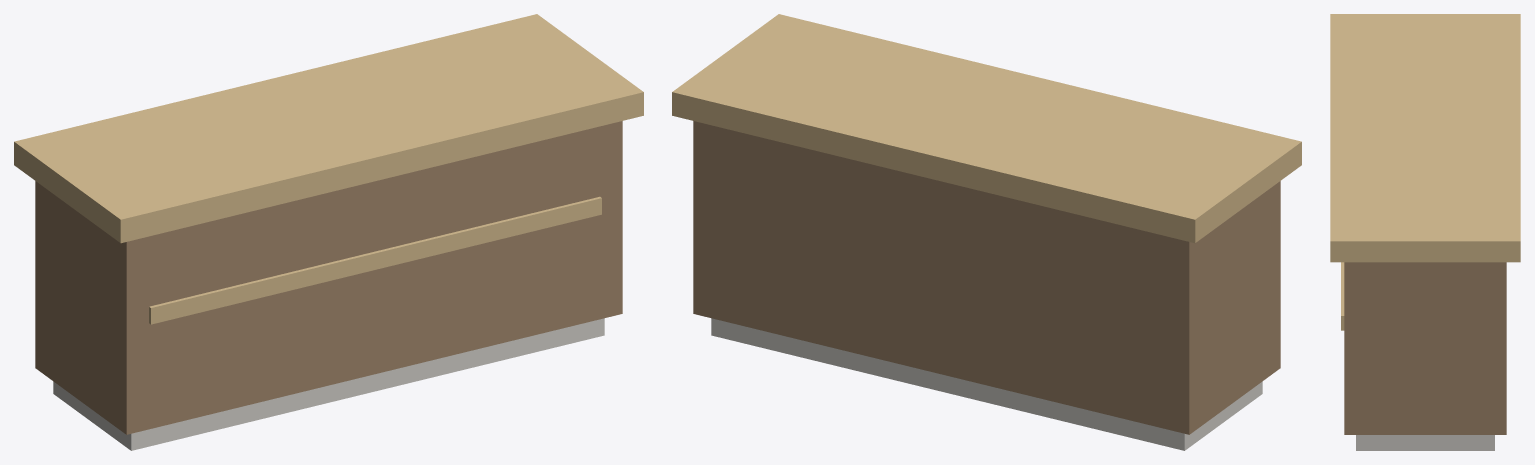
3 views of the same model, side by side, from view 1: azimuth 30°, elevation 25°; view 2: azimuth 150°, elevation 25°; view 3: azimuth 270°, elevation 25° (orthographic). The views are drawn at different scales.
Visible parts, largest first — view 1: 柜体, 台面, 踢脚, 前脸线条; view 2: 柜体, 台面, 踢脚; view 3: 台面, 柜体, 踢脚, 前脸线条.
Boxes of the visible parts, box(x1,y1,x2,y2) form: 柜体: box(35, 121, 622, 434); 台面: box(14, 14, 643, 243); 踢脚: box(53, 318, 604, 450); 前脸线条: box(149, 196, 601, 324); 柜体: box(693, 121, 1280, 434); 台面: box(672, 14, 1301, 243); 踢脚: box(711, 318, 1262, 450); 台面: box(1330, 14, 1520, 262); 柜体: box(1344, 262, 1506, 434); 踢脚: box(1356, 435, 1494, 450); 前脸线条: box(1341, 262, 1344, 330).
Bounding box in the file's own units: 232 × 105 × 82.
